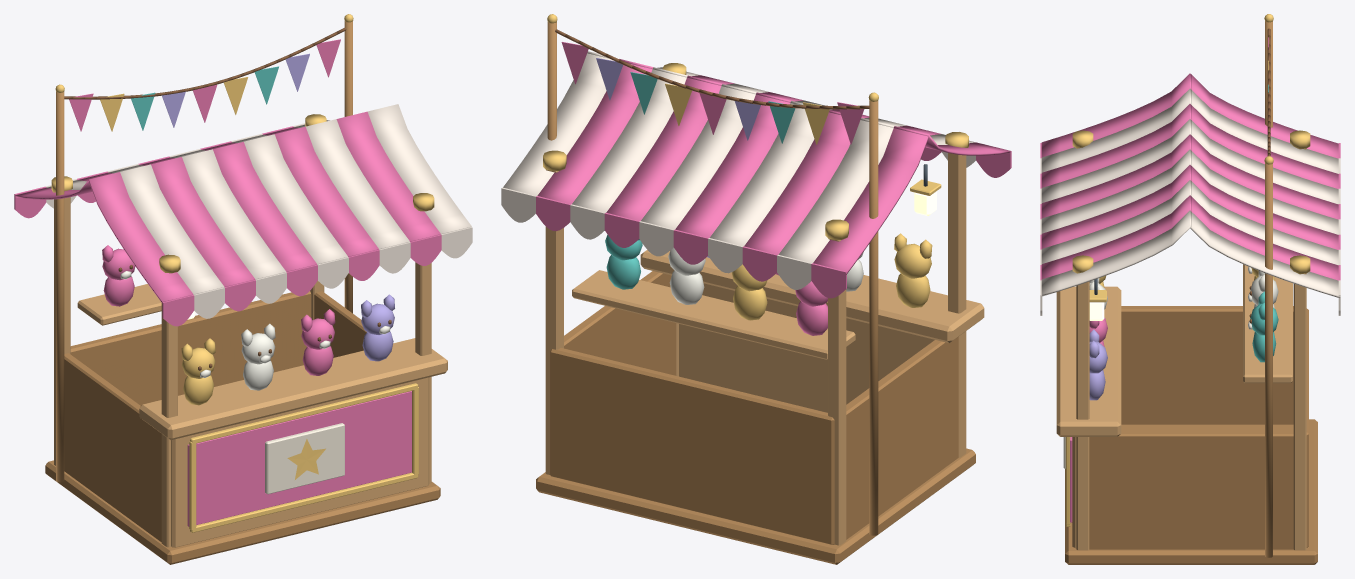
File: event_booth.glb
3 renders of one model, left to right at view 1: azimuth 30°, elevation 25°; view 2: azimuth 150°, elevation 25°; view 3: azimuth 270°, elevation 25°, orthographic. The views are drawn at different scales.
Visible parts, largest first — view 1: canopy, frame, counter, prizes, bunting, signage; view 2: frame, canopy, counter, prizes, bunting, lighting; view 3: frame, canopy, counter, prizes, bunting, lighting.
Part boxes in pixels (box(x1,y1,x2,y2)): canopy: box(14, 104, 472, 326); frame: box(45, 114, 440, 564); counter: box(139, 338, 447, 547); prizes: box(77, 245, 394, 405); bunting: box(55, 14, 353, 482); signage: box(265, 423, 344, 494); frame: box(536, 63, 975, 564); canopy: box(501, 51, 1011, 298); counter: box(640, 249, 984, 412); prizes: box(572, 233, 932, 359); bunting: box(547, 14, 878, 535); lighting: box(910, 164, 941, 215); frame: box(1065, 130, 1317, 564); canopy: box(1040, 73, 1340, 315); counter: box(1056, 286, 1121, 548); prizes: box(1089, 264, 1292, 400); bunting: box(1264, 14, 1273, 557); lighting: box(1089, 279, 1106, 320).
Bounding box in the file's own units: 3 × 3.8 × 2.5.
